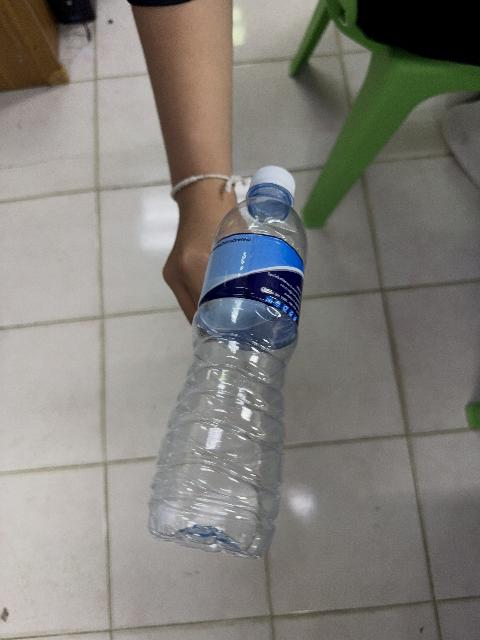bottle: (149, 167, 306, 557)
